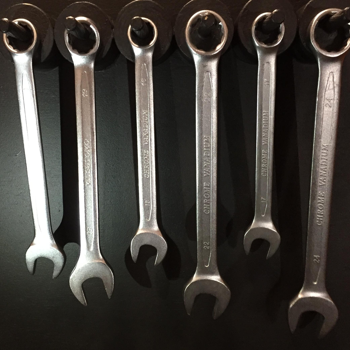bottom: (283, 289, 340, 340), (179, 274, 231, 321), (68, 258, 115, 308), (22, 238, 66, 280), (241, 220, 282, 262), (128, 228, 169, 267)
top: (304, 5, 350, 62), (182, 7, 227, 59), (60, 14, 102, 61), (247, 7, 286, 52), (1, 15, 40, 57), (123, 13, 161, 55)
